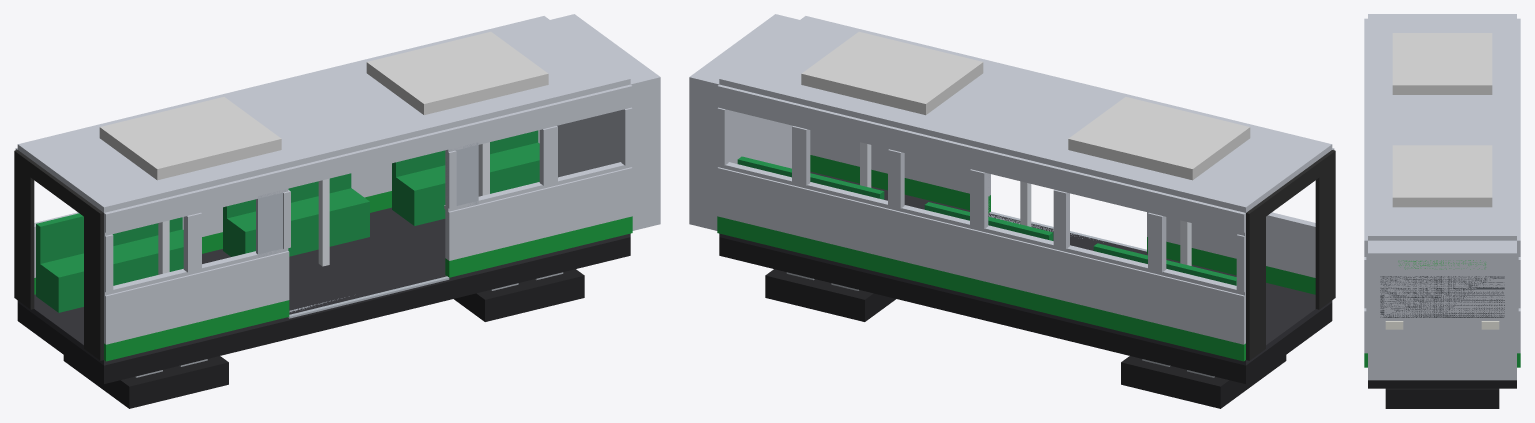
Rendered from metro_wagon_lead_l2.obj.
3 views of the same model, side by side, from view 1: azimuth 30°, elevation 25°; view 2: azimuth 150°, elevation 25°; view 3: azimuth 270°, elevation 25° (orthographic). The views are drawn at different scales.
Size of the model in its own units: 3.16 by 1.26 by 0.88.
